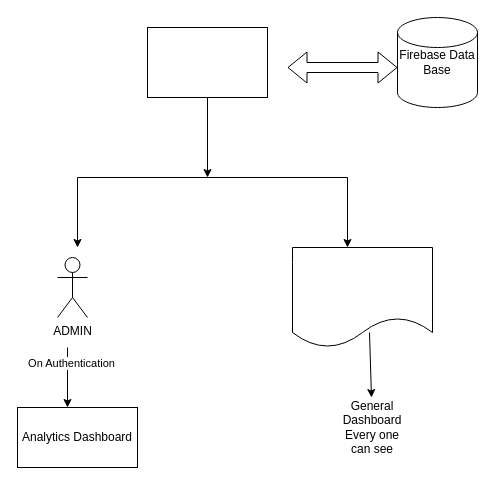
Image size: 495x485. Some labels were removed from this diagram. Here are the shapes that lost their labels. From the top down, the box of each, then its label:
(146, 26, 268, 98): WEBSITE
(292, 246, 432, 348): This consist of our product features and link to download mobile app
